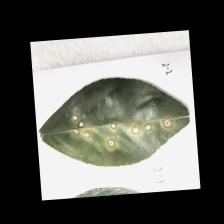canker: (64, 105, 176, 151)
